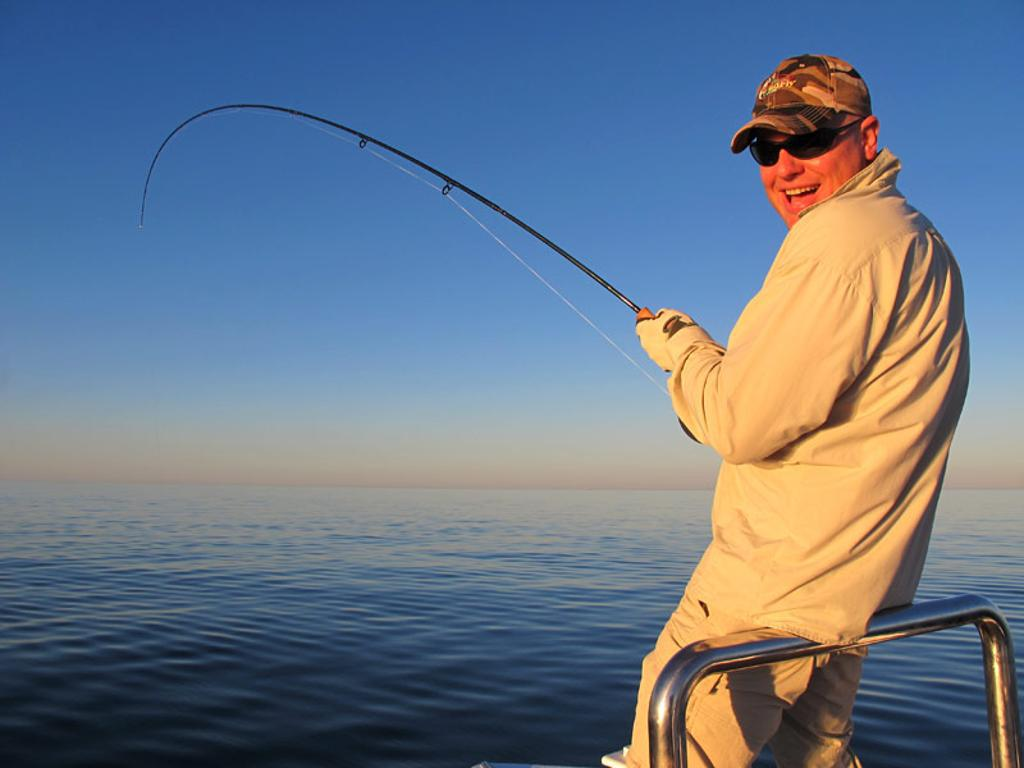face: (755, 107, 861, 227)
